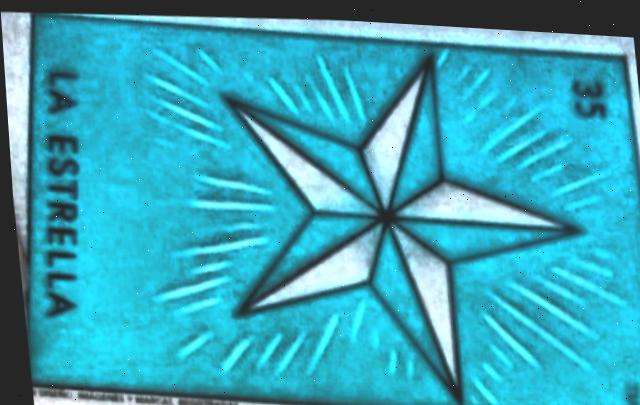La Estrella: (11, 1, 640, 405)
